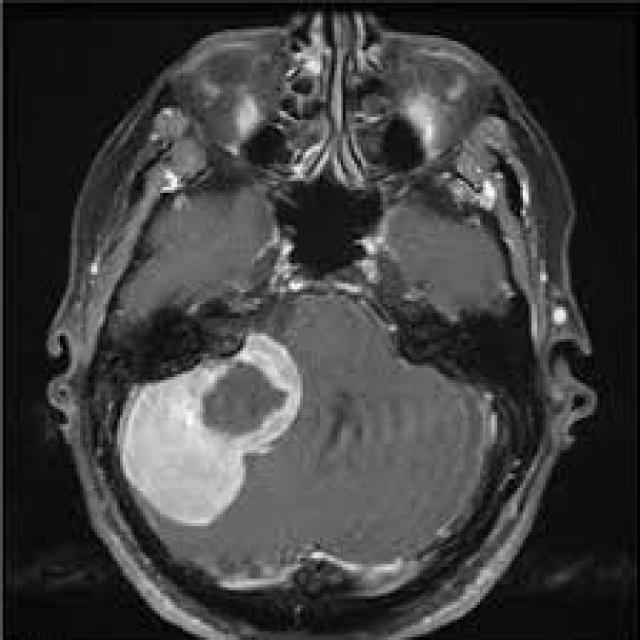Brain-Tumor: (105, 313, 314, 541)
